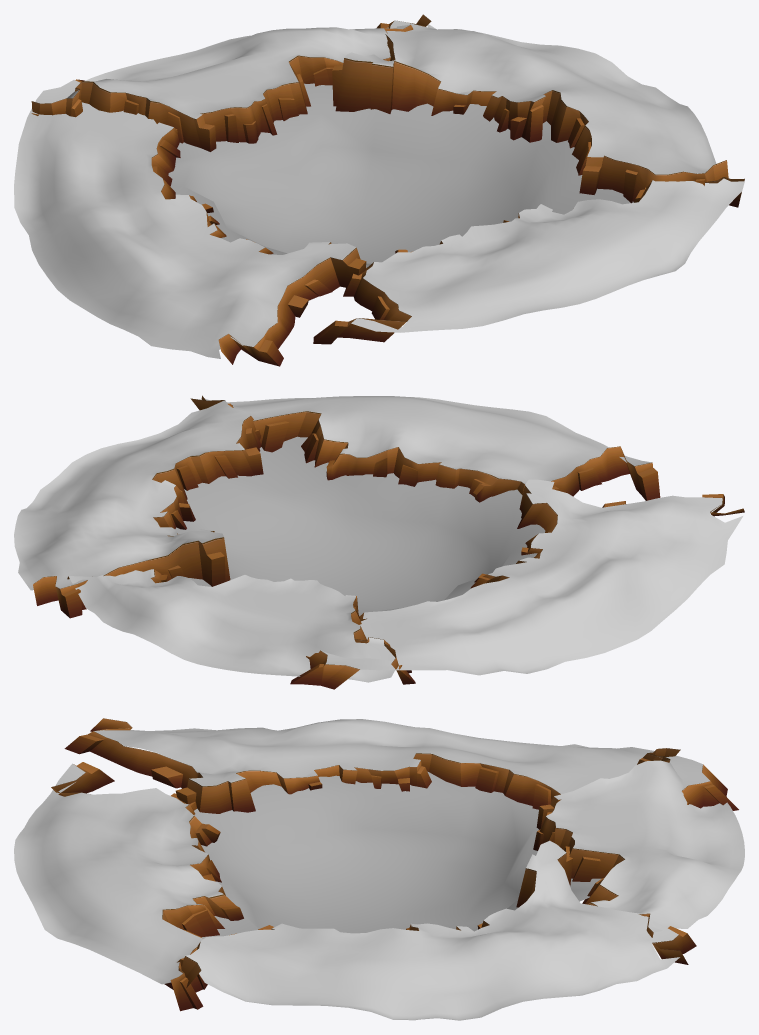
The model's file is level_BG.fbx.
3 renders of one model, top to bottom at view 1: azimuth 30°, elevation 25°; view 2: azimuth 150°, elevation 25°; view 3: azimuth 270°, elevation 25°, orthographic. The views are drawn at different scales.
Parts seen in each view (by area): view 1: Surface (×4), underwater, Cliffs (×4); view 2: Surface (×4), underwater, Cliffs (×4); view 3: Surface (×4), underwater, Cliffs (×4).
Boxes of the visible parts, x1,y1,x2,y2 form: Surface (×4): (14, 20, 744, 358); underwater: (168, 83, 633, 267); Cliffs (×4): (31, 14, 744, 366); Surface (×4): (14, 396, 742, 682); underwater: (175, 436, 545, 615); Cliffs (×4): (33, 395, 744, 689); Surface (×4): (14, 719, 744, 1020); underwater: (194, 771, 601, 938); Cliffs (×4): (51, 718, 738, 1011).
Size of the model in its own units: 125049 by 20945 by 125234.
